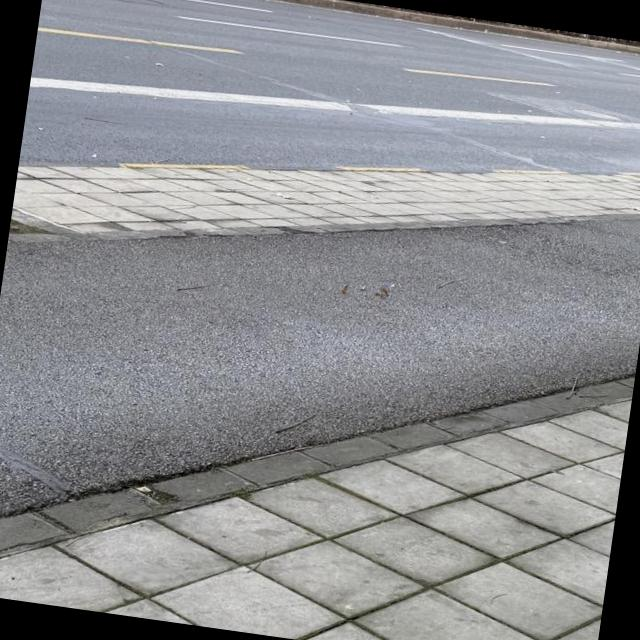curb: (0, 377, 634, 554), (13, 207, 640, 243), (275, 0, 640, 53), (18, 162, 640, 179)
